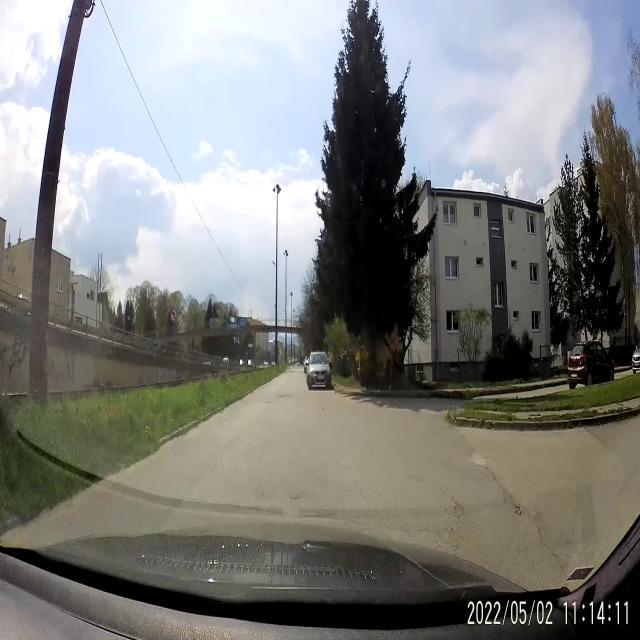Pothole: (274, 388, 294, 401)
